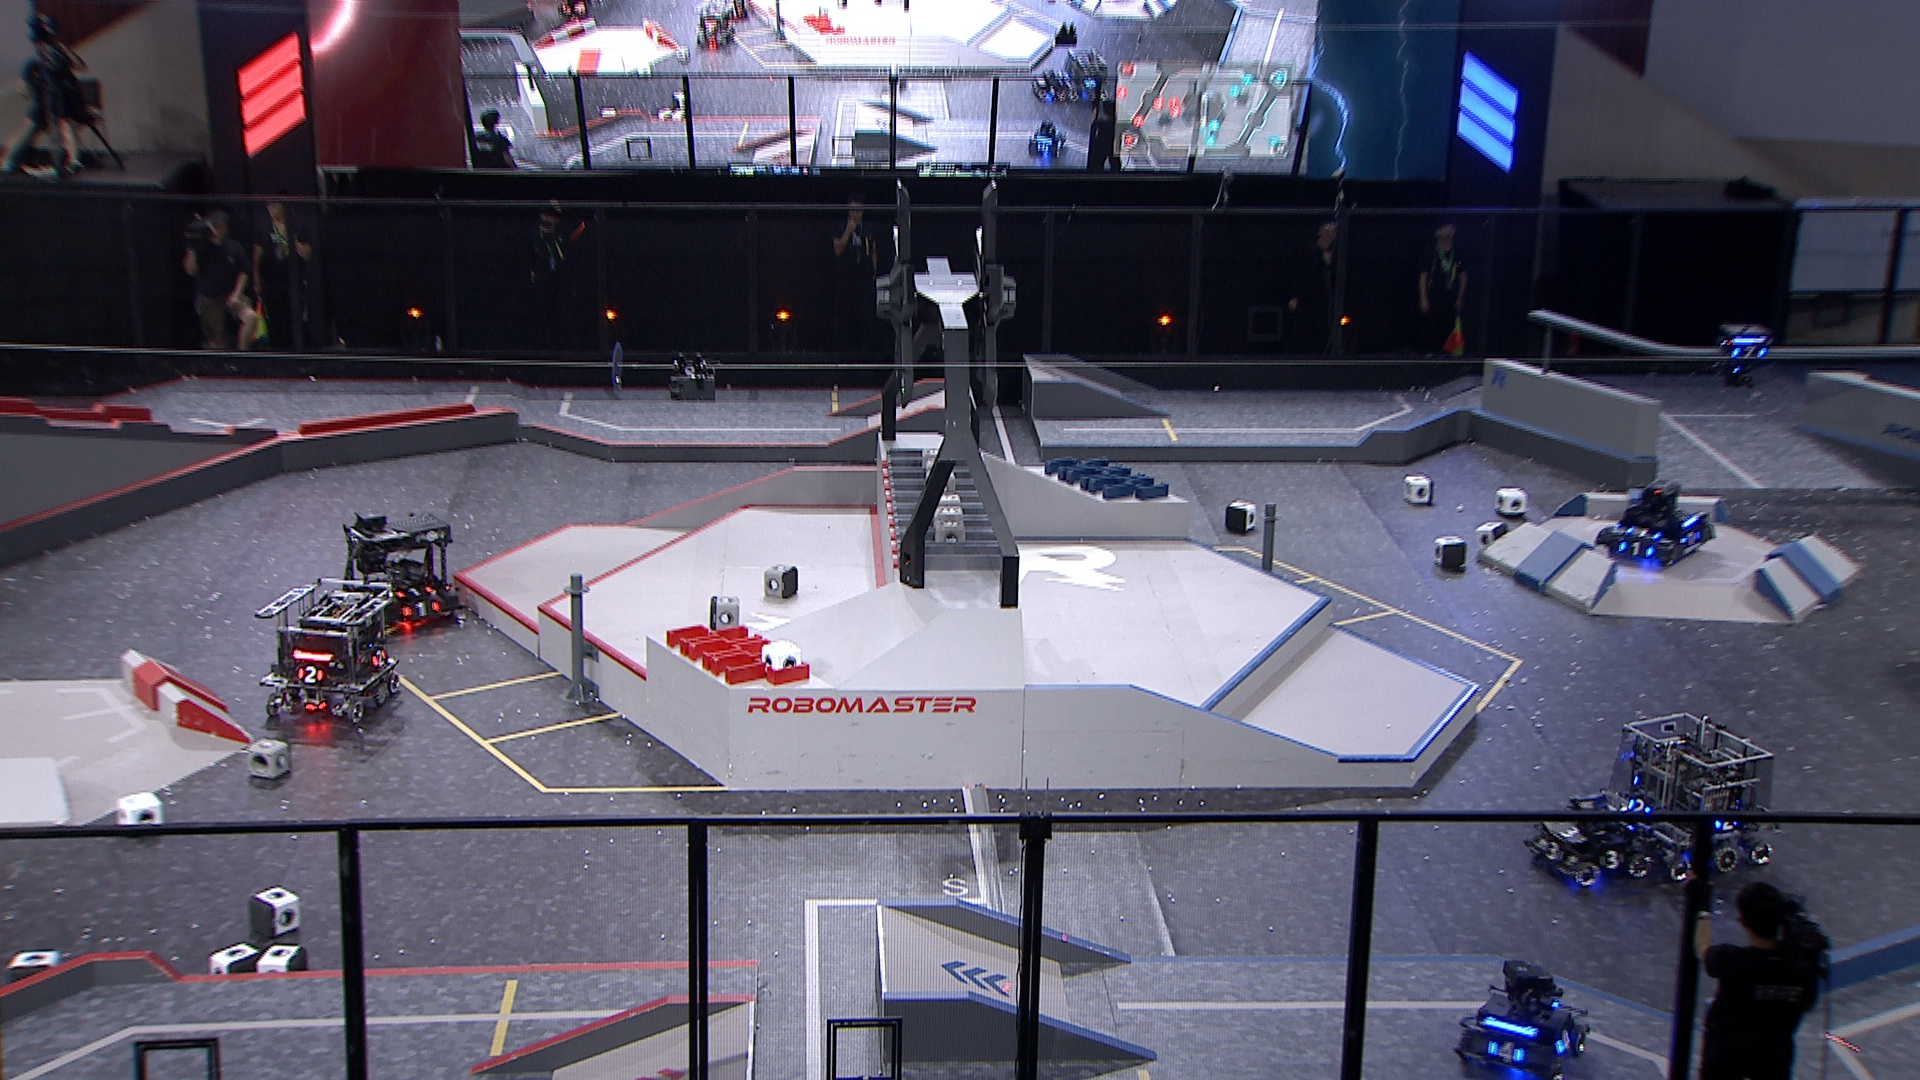armor: (1484, 1040, 1528, 1065), (400, 603, 442, 622), (1596, 847, 1625, 870), (1731, 343, 1766, 363), (295, 665, 324, 687), (1556, 823, 1585, 844), (392, 585, 433, 600), (1618, 541, 1655, 556), (1542, 839, 1564, 862), (1626, 526, 1662, 541), (1713, 818, 1741, 836), (1556, 1029, 1575, 1055), (1626, 796, 1654, 814), (368, 647, 389, 670), (1679, 531, 1702, 546)
car: (1598, 711, 1775, 887), (252, 575, 401, 728), (1452, 956, 1592, 1080), (340, 512, 468, 640), (1523, 789, 1665, 889), (1594, 477, 1718, 568)
ignore: (1031, 46, 1110, 105), (698, 3, 737, 51), (1025, 120, 1067, 160)
watcher: (1714, 324, 1774, 386)
